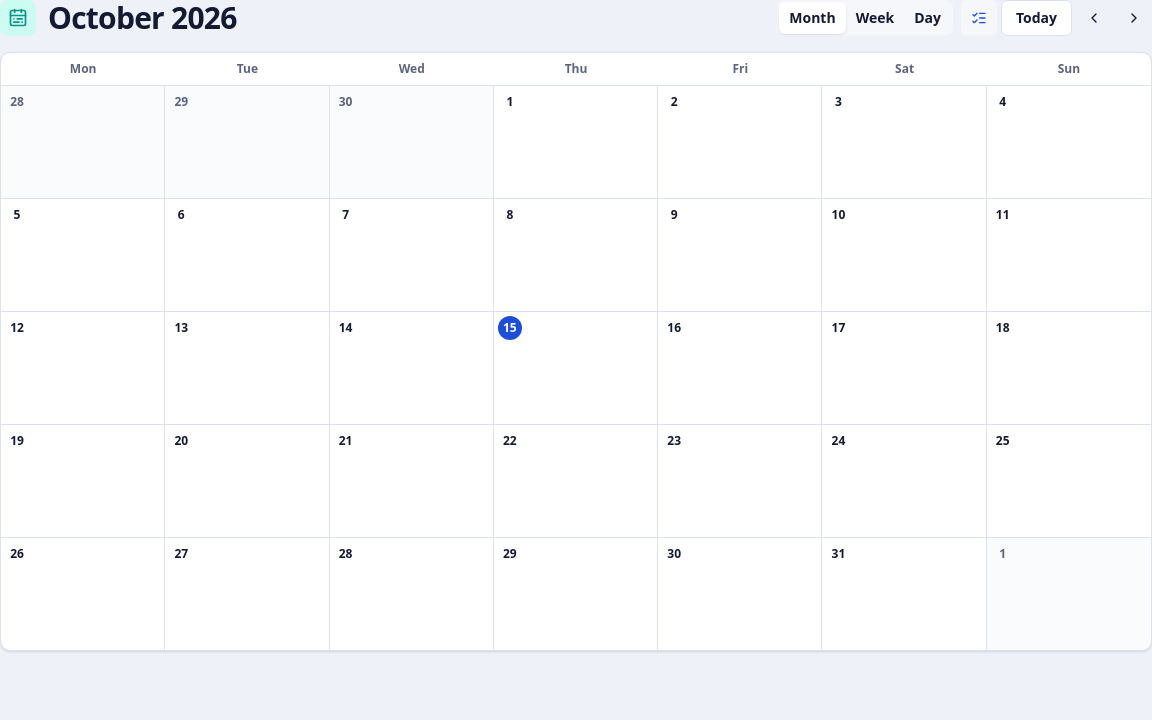
Test: CalendarView in Month mode › steps to the next and previous month and back to today, keeping the place in the address
What coordinates should you click on to do the following:
click the button named "Next month"
I would click on:
 (1134, 18)
Its box is x1=1116 y1=0 x2=1151 y2=36.
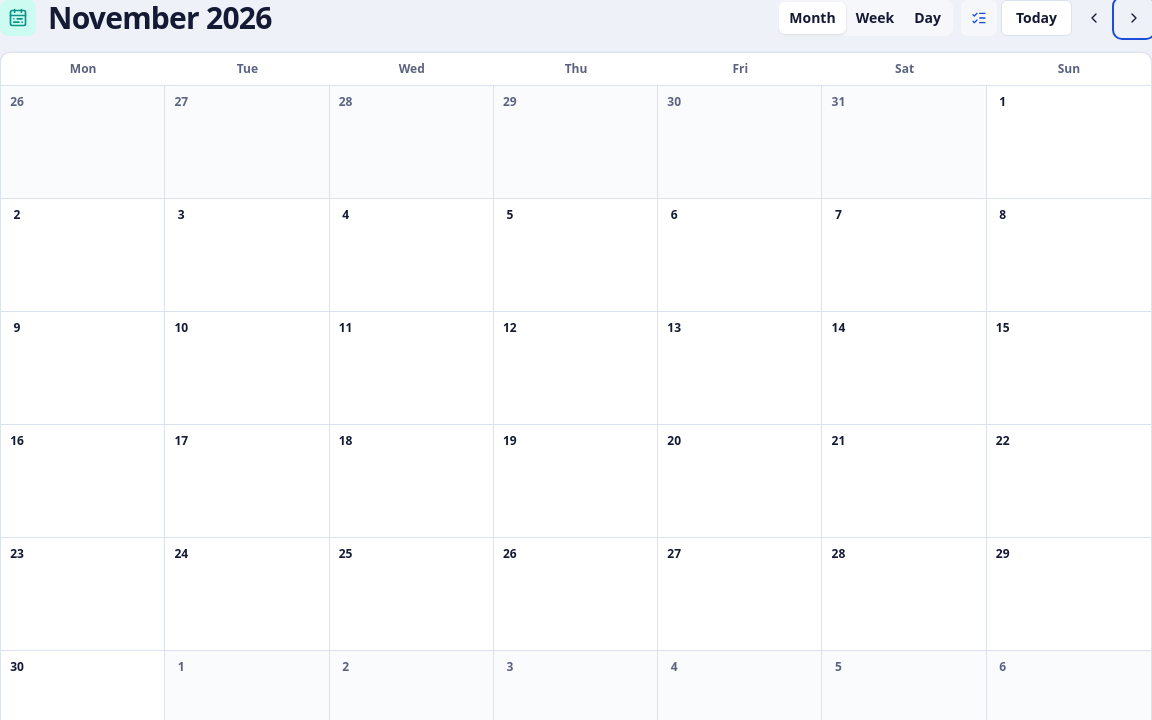
Result: the heading "November 2026" is shown at x1=48 y1=0 x2=272 y2=36
What coordinates should you click on to do the following:
click the button named "Previous month"
I would click on:
 (1094, 18)
Its box is x1=1076 y1=0 x2=1112 y2=36.
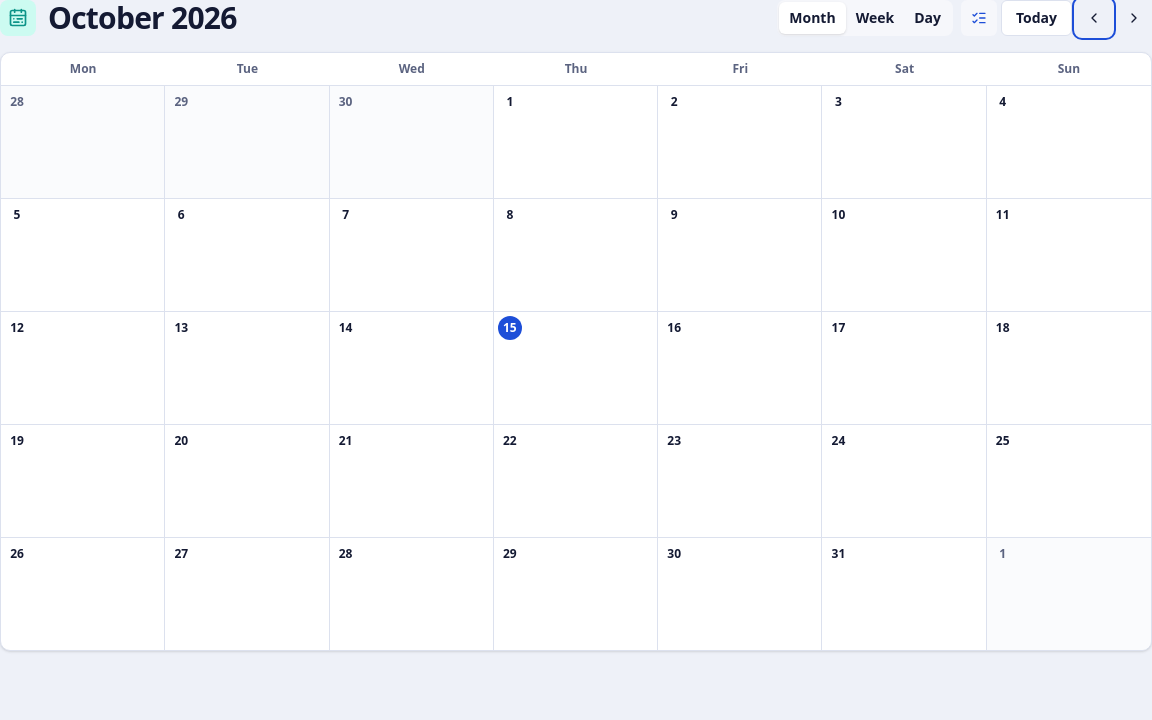
What coordinates should you click on to do the following:
click the button named "Previous month"
I would click on:
 (1094, 18)
Its box is x1=1076 y1=0 x2=1112 y2=36.
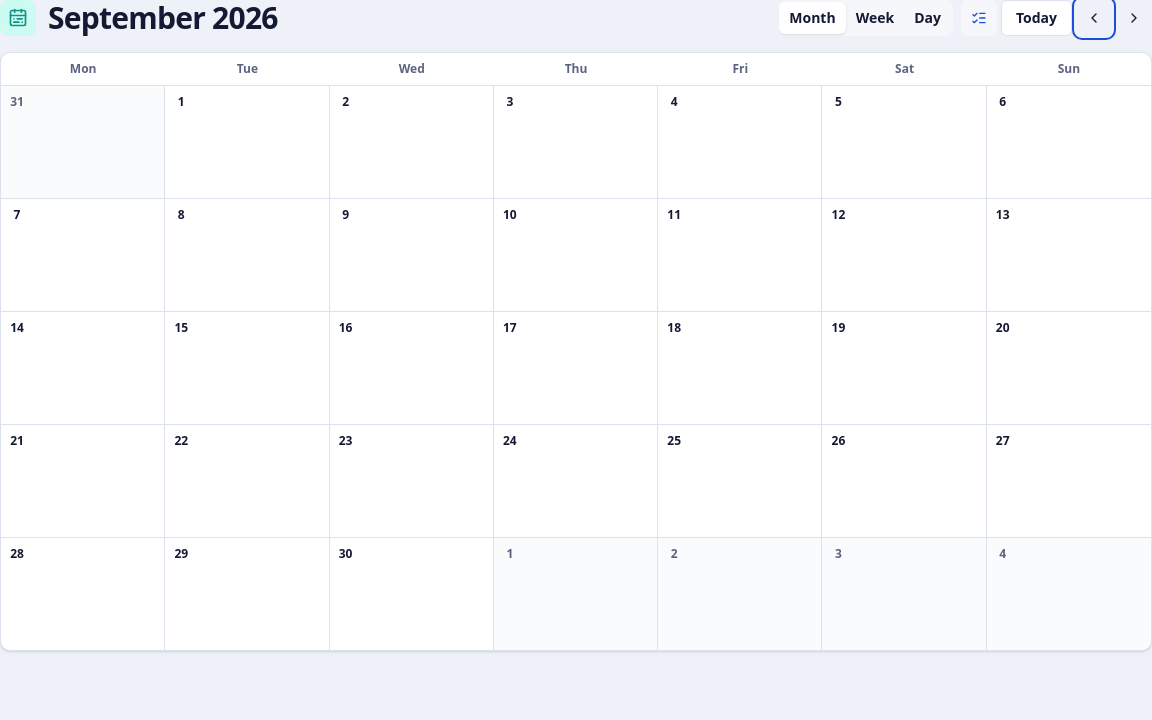
Result: the heading "September 2026" is shown at x1=48 y1=0 x2=278 y2=36
What coordinates should you click on to do the following:
click the button "Today"
I would click on:
 (1036, 18)
Its box is x1=1001 y1=0 x2=1072 y2=36.
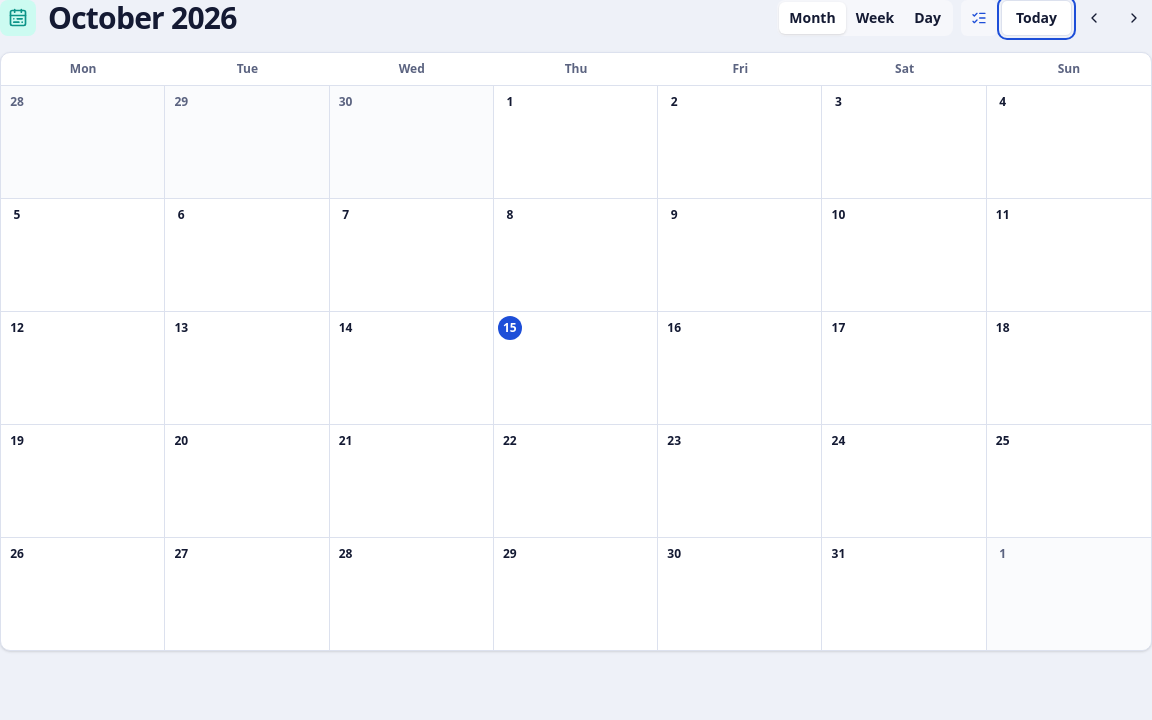
Result: the heading "October 2026" is shown at x1=48 y1=0 x2=237 y2=36
